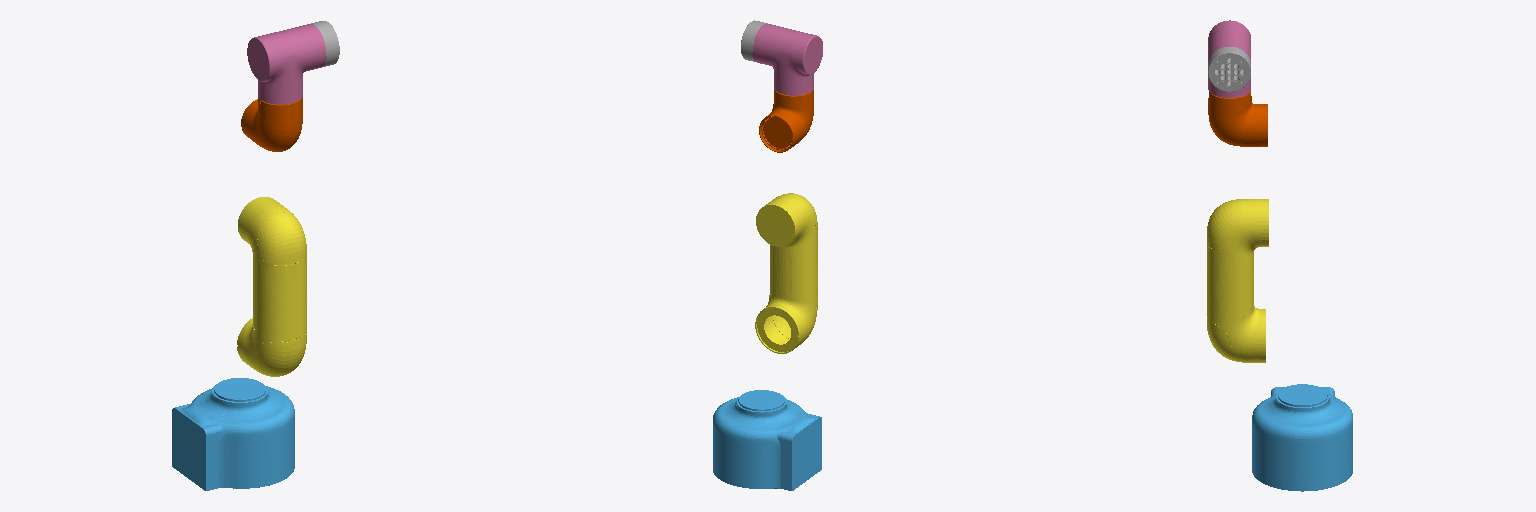
robot.urdf — mycobot_ai:
<?xml version="1.1"?>
<robot xmlns:xacro="http://www.ros.org/wiki/xacro" name="mycobot_ai">


  <link name="env">
    <visual>
      <geometry>
        <!--- 0.0 0 -0.04  1.5708 3.14159-->
        <mesh filename="package://mycobot_description/urdf/mycobot_280_m5/suit_env.dae"/>
      </geometry>
      <origin xyz = "0 0 -0.02 " rpy = "1.5708 0 -1.5708"/>
    </visual>
  </link>

  <link name="joint1">
    <visual>
      <geometry>
        <!--- 0.0 0 -0.04  1.5708 3.14159-->
        <mesh filename="package://mycobot_description/urdf/mycobot_280_m5/joint1.dae"/>
      </geometry>
      <origin xyz = "0.0 0 0 " rpy = " 0 0 -1.5708"/>
    </visual>
    <collision>
      <geometry>
        <!--- 0.0 0 -0.04  1.5708 3.14159-->
        <mesh filename="package://mycobot_description/urdf/mycobot_280_m5/joint1.dae"/>
      </geometry>
      <origin xyz = "0.0 0 0 " rpy = " 0 0 -1.5708"/>
    </collision>
  </link>

  <link name="joint2">
    <visual>
      <geometry>
        <mesh filename="package://mycobot_description/urdf/mycobot_280_m5/joint2.dae"/>
      </geometry>
      <origin xyz = "0.0 0 -0.06096 " rpy = " 0 0 -1.5708"/>
    </visual>
    <collision>
      <geometry>
        <mesh filename="package://mycobot_description/urdf/mycobot_280_m5/joint2.dae"/>
      </geometry>
      <origin xyz = "0.0 0 -0.06096 " rpy = " 0 0 -1.5708"/>
    </collision>
  </link>


  <link name="joint3">
    <visual>
      <geometry>
        <mesh filename="package://mycobot_description/urdf/mycobot_280_m5/joint3.dae"/>
      </geometry>
      <origin xyz = "0.0 0 0.03256 " rpy = " 0 -1.5708 0"/>
    </visual>
    <collision>
      <geometry>
        <mesh filename="package://mycobot_description/urdf/mycobot_280_m5/joint3.dae"/>
      </geometry>
      <origin xyz = "0.0 0 0.03256 " rpy = " 0 -1.5708 0"/>
    </collision>
  </link>


  <link name="joint4">
    <visual>
      <geometry>
        <!--- 0.0 0 -0.04 -->
        <mesh filename="package://mycobot_description/urdf/mycobot_280_m5/joint4.dae"/>
      </geometry>
      <origin xyz = "0.0 0 0.03056 " rpy = " 0 -1.5708 0"/>
    </visual>
    <collision>
      <geometry>
        <!--- 0.0 0 -0.04 -->
        <mesh filename="package://mycobot_description/urdf/mycobot_280_m5/joint4.dae"/>
      </geometry>
      <origin xyz = "0.0 0 0.03056 " rpy = " 0 -1.5708 0"/>
    </collision>
  </link>


  <link name="joint5">
    <visual>
      <geometry>
        <!--- 0.0 0 -0.04 -->
        <mesh filename="package://mycobot_description/urdf/mycobot_280_m5/joint5.dae"/>
      </geometry>
      <origin xyz = "0.0 0 -0.03356 " rpy = "-1.5708 0 0"/>
    </visual>
    <collision>
      <geometry>
        <!--- 0.0 0 -0.04 -->
        <mesh filename="package://mycobot_description/urdf/mycobot_280_m5/joint5.dae"/>
      </geometry>
      <origin xyz = "0.0 0 -0.03356 " rpy = "-1.5708 0 0"/>
    </collision>
  </link>


  <link name="joint6">
    <visual>
      <geometry>
        <!--- 0.0 0 -0.04 -->
        <mesh filename="package://mycobot_description/urdf/mycobot_280_m5/joint6.dae"/>
      </geometry>
      <origin xyz = "0 0.00 -0.038 " rpy = " 0 0 0"/>
    </visual>
    <collision>
      <geometry>
        <!--- 0.0 0 -0.04 -->
        <mesh filename="package://mycobot_description/urdf/mycobot_280_m5/joint6.dae"/>
      </geometry>
      <origin xyz = "0 0.00 -0.038 " rpy = " 0 0 0"/>
    </collision>
  </link>


  <link name="joint6_flange">
    <visual>
      <geometry>
        <!--- 0.0 0 -0.04 -->
        <mesh filename="package://mycobot_description/urdf/mycobot_280_m5/joint7.dae"/>
      </geometry>
      <origin xyz = "0.0 0 -0.012 " rpy = " 0 0 0"/>
    </visual>
    <collision>
      <geometry>
        <!--- 0.0 0 -0.04 -->
        <mesh filename="package://mycobot_description/urdf/mycobot_280_m5/joint7.dae"/>
      </geometry>
      <origin xyz = "0.0 0 -0.012 " rpy = " 0 0 0"/>
    </collision>
  </link>





  <joint name="joint2_to_joint1" type="revolute">
    <axis xyz="0 0 1"/>
    <limit effort = "1000.0" lower = "-2.9321" upper = "2.9321" velocity = "0"/>
    <parent link="joint1"/>
    <child link="joint2"/>
    <origin xyz= "0 0 0.13156" rpy = "0 0 0"/>
  </joint>

  <joint name="joint3_to_joint2" type="revolute">
    <axis xyz="0 0 1"/>
    <limit effort = "1000.0" lower = "-2.4434" upper = "2.4434" velocity = "0"/>
    <parent link="joint2"/>
    <child link="joint3"/>
    <origin xyz= "0 0  0" rpy = "0 1.5708 -1.5708"/>
  </joint>


  <joint name="joint4_to_joint3" type="revolute">
    <axis xyz=" 0 0 1"/>
    <limit effort = "1000.0" lower = "-2.6179" upper = "2.6179" velocity = "0"/>
    <parent link="joint3"/>
    <child link="joint4"/>
    <origin xyz= "  -0.1104 0 0   " rpy = "0 0 0"/>
  </joint>



  <joint name="joint5_to_joint4" type="revolute">
    <axis xyz=" 0 0 1"/>
    <limit effort = "1000.0" lower = "-2.6179" upper = "2.6179" velocity = "0"/>
    <parent link="joint4"/>
    <child link="joint5"/>
    <origin xyz= "-0.096 0 0.06462" rpy = "0 0 -1.5708"/>
  </joint>

  <joint name="joint6_to_joint5" type="revolute">
    <axis xyz="0 0 1"/>
    <limit effort = "1000.0" lower = "-2.7052" upper = "2.7925" velocity = "0"/>
    <parent link="joint5"/>
    <child link="joint6"/>
    <origin xyz= "0 -0.07318 0" rpy = "1.5708 -1.5708 0"/>
  </joint>

  <joint name="joint6output_to_joint6" type="revolute">
    <axis xyz="0 0 1"/>
    <limit effort = "1000.0" lower = "-3.14159" upper = "3.14159" velocity = "0"/>
    <parent link="joint6"/>
    <child link="joint6_flange"/>
    <origin xyz= "0 0.0456 0" rpy = "-1.5708 0 0"/>
  </joint>

  <joint name="vision_joint" type="fixed">
    <axis xyz="0 0 0"/>
    <limit effort = "1000.0" lower = "-3.14" upper = "3.14159" velocity = "0"/>
    <parent link="joint1"/>
    <child link="env"/>
    <origin xyz= "0 0 0" rpy = "0 0 0"/>
  </joint>

</robot>

--- Render facts (derived) ---
3 views of the same robot in one strip: view 1: azimuth 30°, elevation 25°; view 2: azimuth 150°, elevation 25°; view 3: azimuth 270°, elevation 25° (orthographic).
Model mycobot_ai with 8 links and 7 joints (6 revolute, 1 fixed), rooted at joint1, posed every joint at zero.
Visible links, largest first — view 1: joint1, joint3, joint6, joint5, joint6_flange; view 2: joint1, joint3, joint6, joint5; view 3: joint1, joint3, joint5, joint6_flange, joint6.
Link boxes in pixels (x1=…): joint1: x1=172, y1=378, x2=294, y2=490; joint3: x1=237, y1=197, x2=306, y2=376; joint6: x1=247, y1=24, x2=326, y2=104; joint5: x1=241, y1=97, x2=302, y2=151; joint6_flange: x1=311, y1=21, x2=339, y2=66; joint1: x1=713, y1=390, x2=821, y2=490; joint3: x1=755, y1=193, x2=817, y2=353; joint6: x1=752, y1=23, x2=822, y2=95; joint5: x1=759, y1=89, x2=813, y2=152; joint1: x1=1252, y1=384, x2=1352, y2=491; joint3: x1=1207, y1=199, x2=1268, y2=362; joint5: x1=1208, y1=92, x2=1267, y2=146; joint6_flange: x1=1208, y1=47, x2=1250, y2=91; joint6: x1=1208, y1=20, x2=1250, y2=97.
Bounding box of the posed robot: 0.0993 × 0.1303 × 0.4303 m (x, y, z).
5 mesh visuals loaded from 8 distinct referenced files (5 Collada DAE); not drawn: 3 (reference not matched to a file when rendering).
